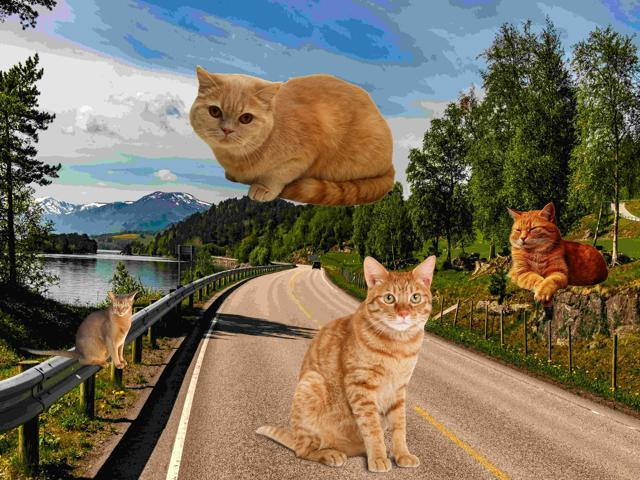cat: (255, 257, 435, 474), (185, 67, 394, 209), (503, 202, 607, 305), (21, 291, 136, 367)
